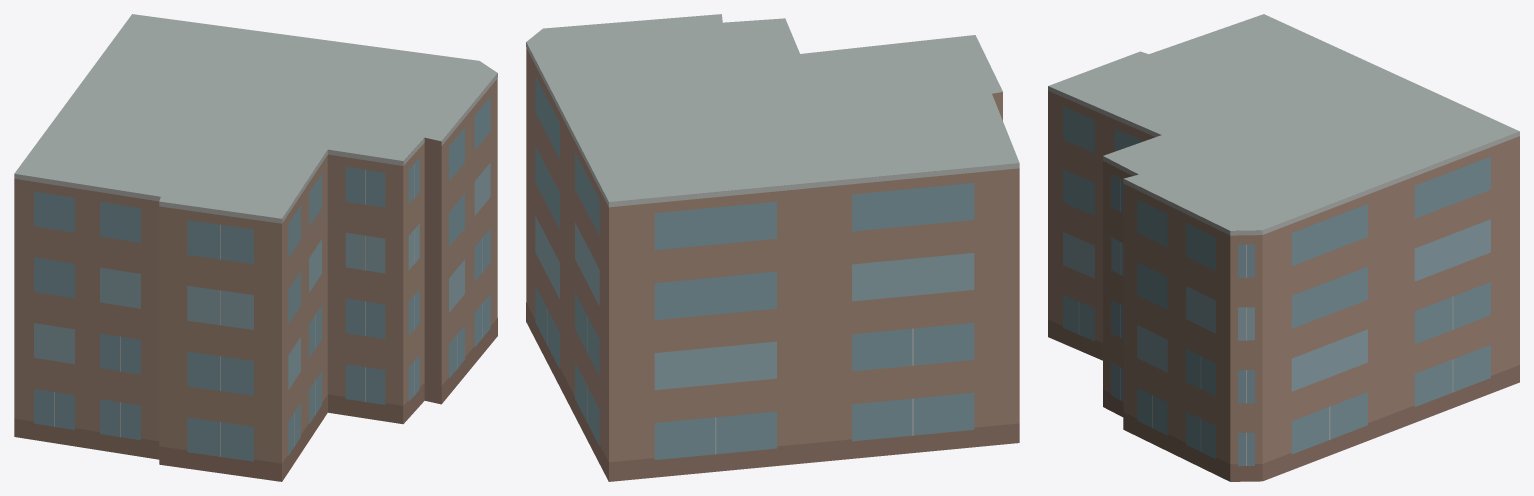
File: survey-upis-32604780.glb
3 views of the same model, side by side, from view 1: azimuth 30°, elevation 25°; view 2: azimuth 150°, elevation 25°; view 3: azimuth 270°, elevation 25° (orthographic). The views are drawn at different scales.
Parts seen in each view (by area): view 1: survey-upis-32604780.tmp; view 2: survey-upis-32604780.tmp; view 3: survey-upis-32604780.tmp.
Boxes of the visible parts, x1,y1,x2,y2 form: survey-upis-32604780.tmp: (14, 14, 497, 481); survey-upis-32604780.tmp: (526, 14, 1019, 481); survey-upis-32604780.tmp: (1048, 14, 1519, 481).
Size of the model in its own units: 24.1 by 13 by 22.15.
